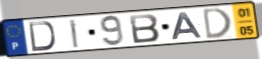9: (100, 14, 127, 48)
A: (170, 11, 205, 41)
B: (128, 13, 162, 45)
D: (201, 6, 233, 41), (27, 20, 58, 53)
I: (68, 18, 80, 49)
